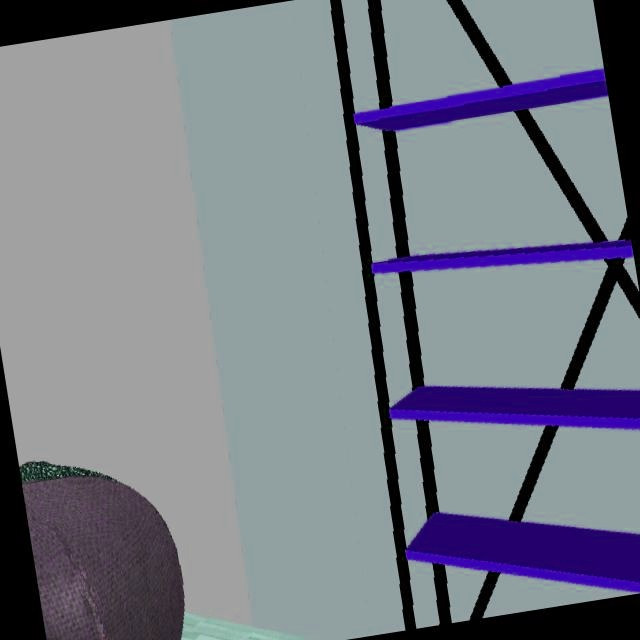shelf: (331, 0, 640, 631)
